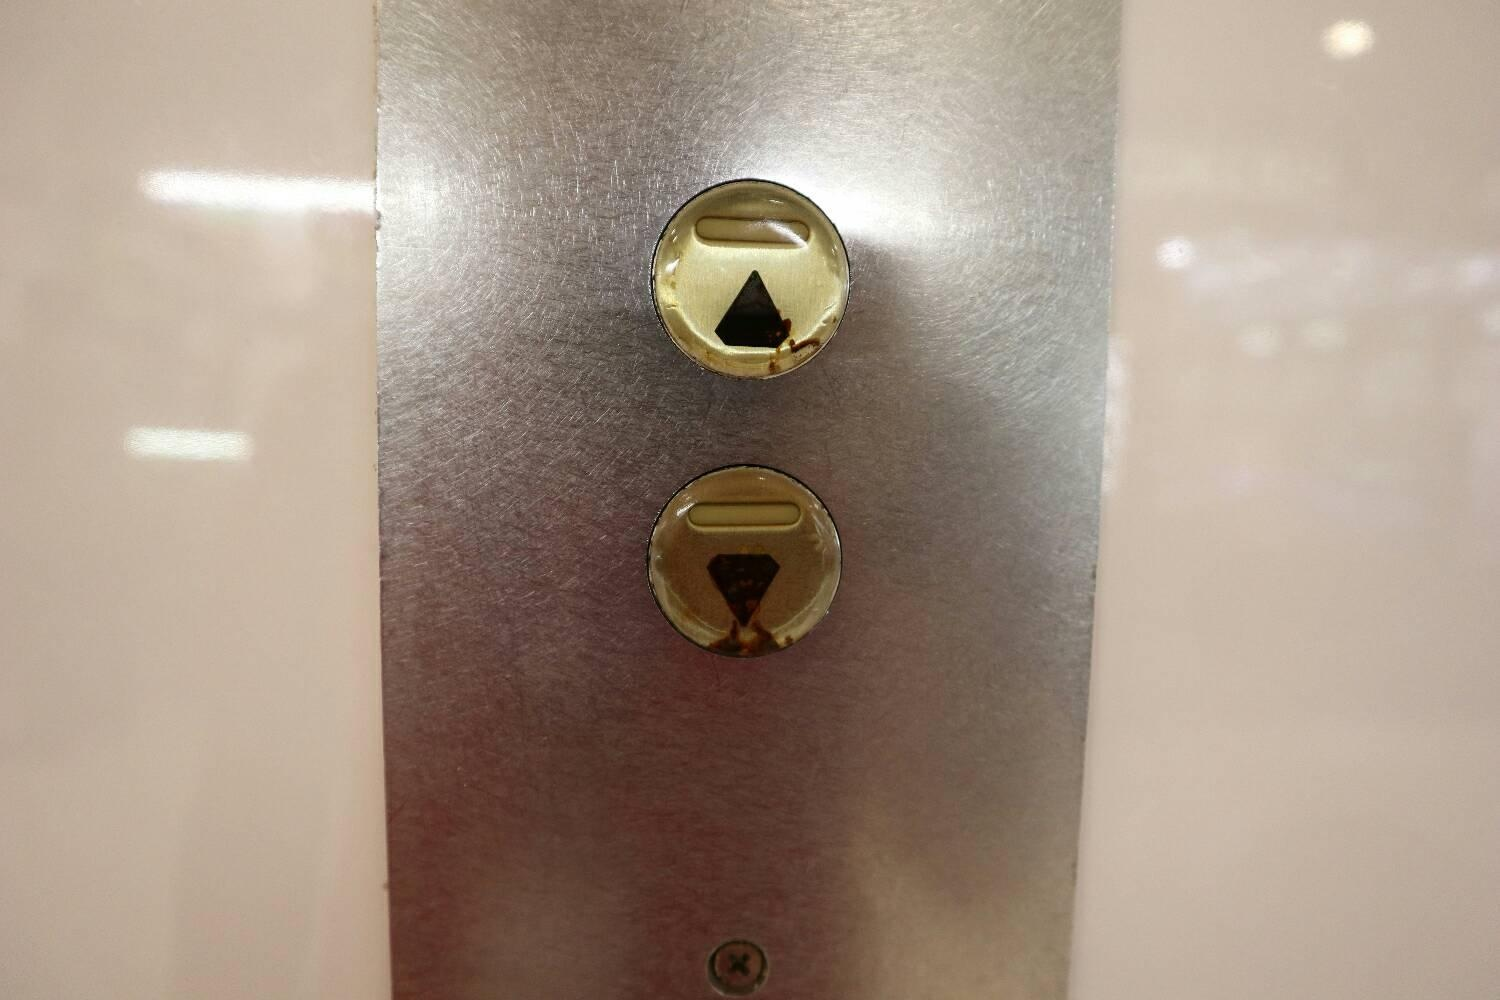down: (633, 454, 850, 667)
up: (642, 172, 860, 385)
